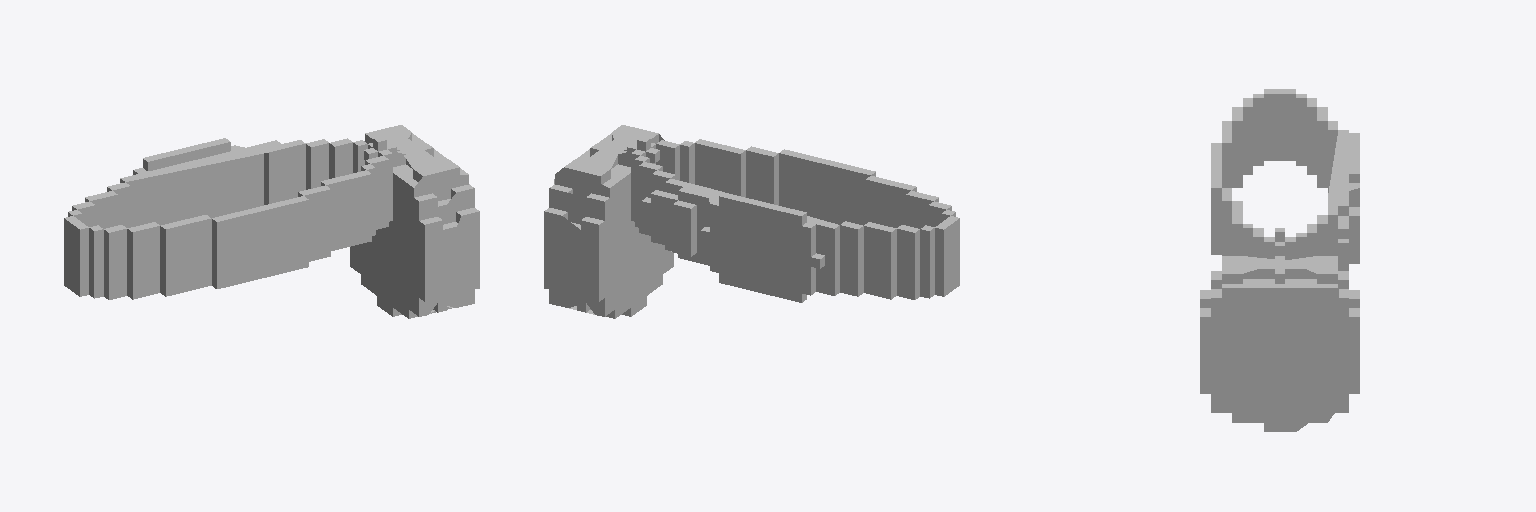
File: Belt_Leather_Studded_With_MediumHipPouchx1.obj
3 views of the same model, side by side, from view 1: azimuth 30°, elevation 25°; view 2: azimuth 150°, elevation 25°; view 3: azimuth 270°, elevation 25° (orthographic).
Visible parts, largest first — view 1: Belt_Leather_Studded_With_MediumHipPouchx1; view 2: Belt_Leather_Studded_With_MediumHipPouchx1; view 3: Belt_Leather_Studded_With_MediumHipPouchx1.
Part boxes in pixels (bbox=[...]): Belt_Leather_Studded_With_MediumHipPouchx1: bbox=[64, 125, 479, 318]; Belt_Leather_Studded_With_MediumHipPouchx1: bbox=[544, 125, 959, 318]; Belt_Leather_Studded_With_MediumHipPouchx1: bbox=[1200, 89, 1359, 431].
Bounding box in the file's own units: 0.4 × 0.18 × 0.15.